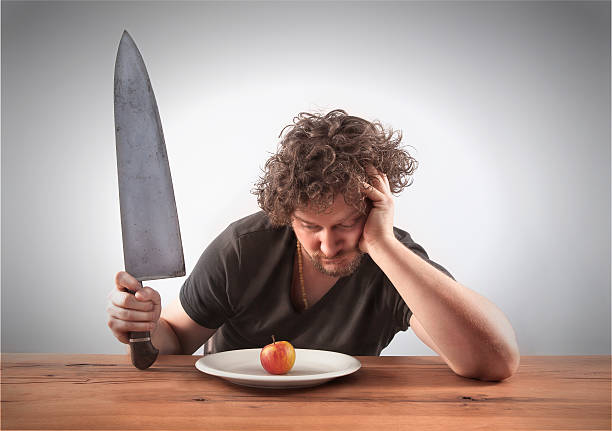knife: (110, 26, 189, 372)
